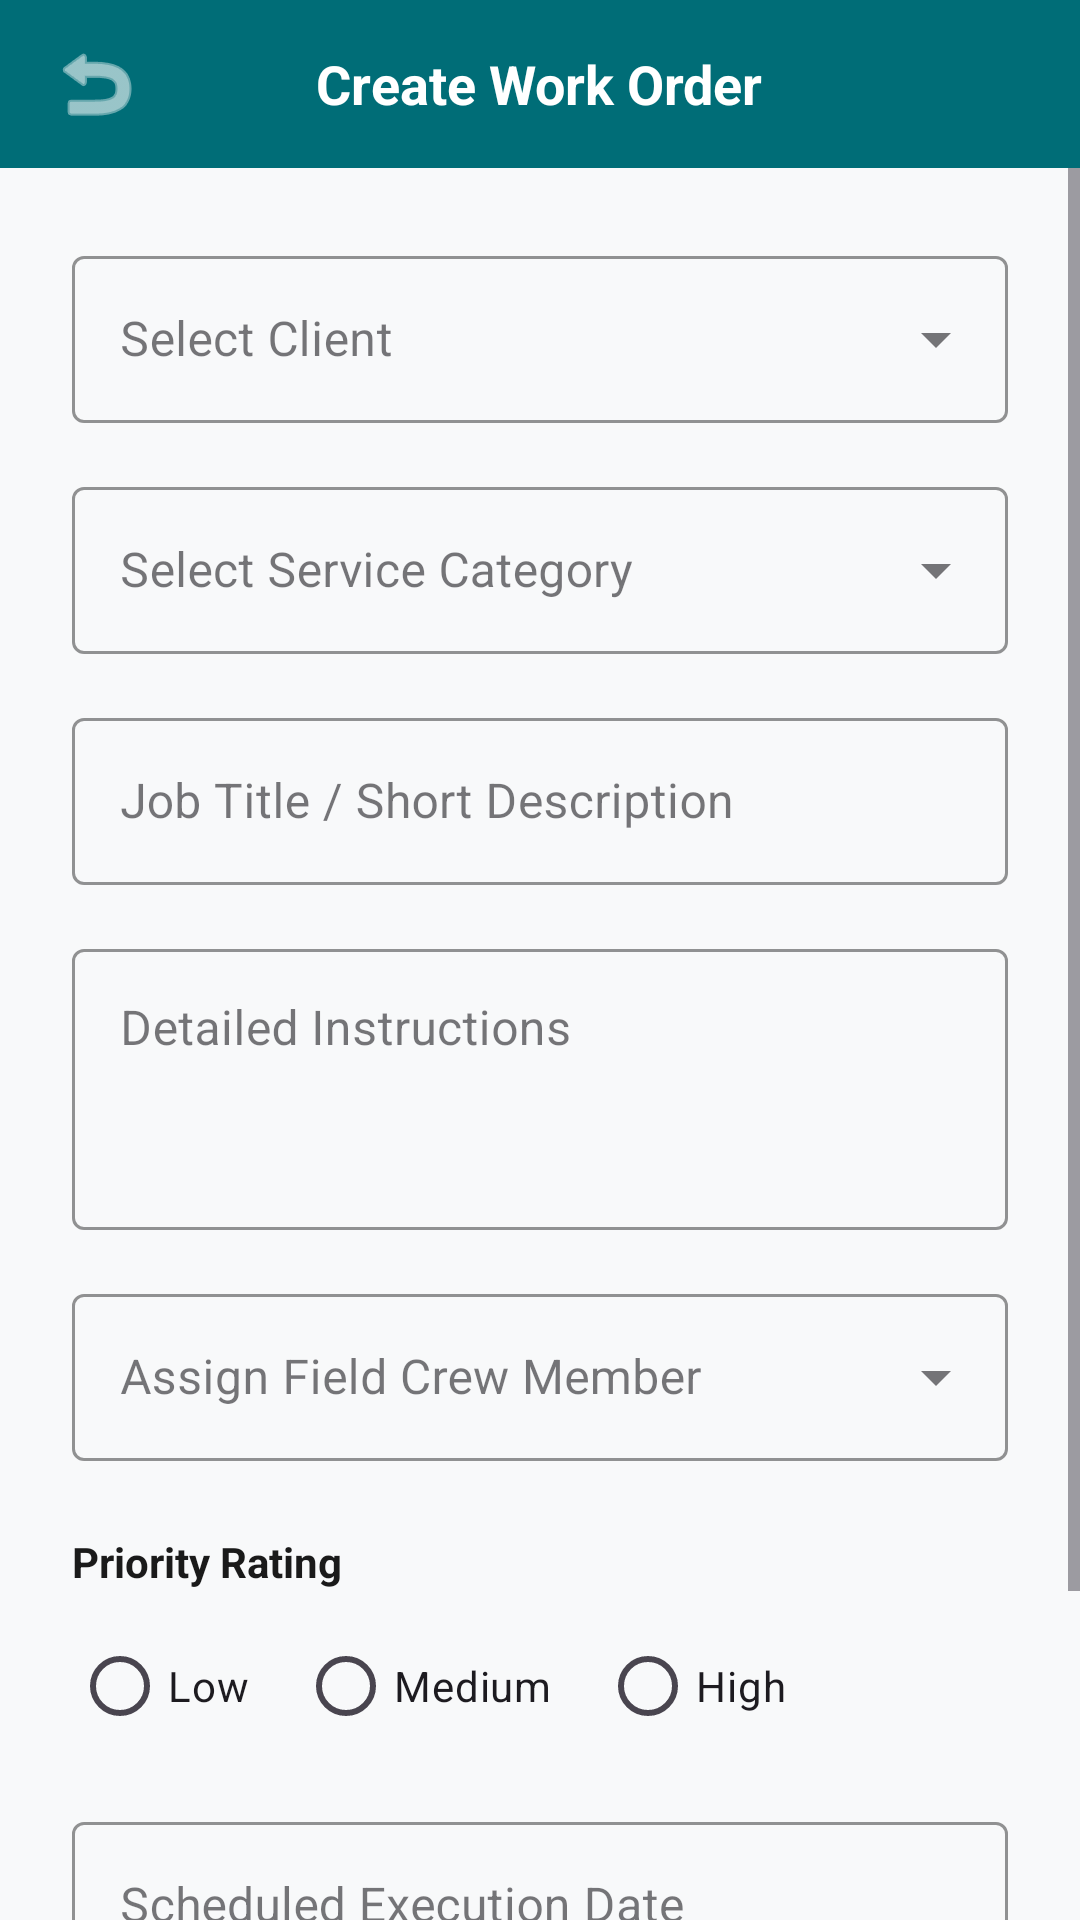

Icons on this 1080x1920 Android screen, each with its box as region(x1, y1, x2, y2):
Back: region(63, 53, 132, 116)
